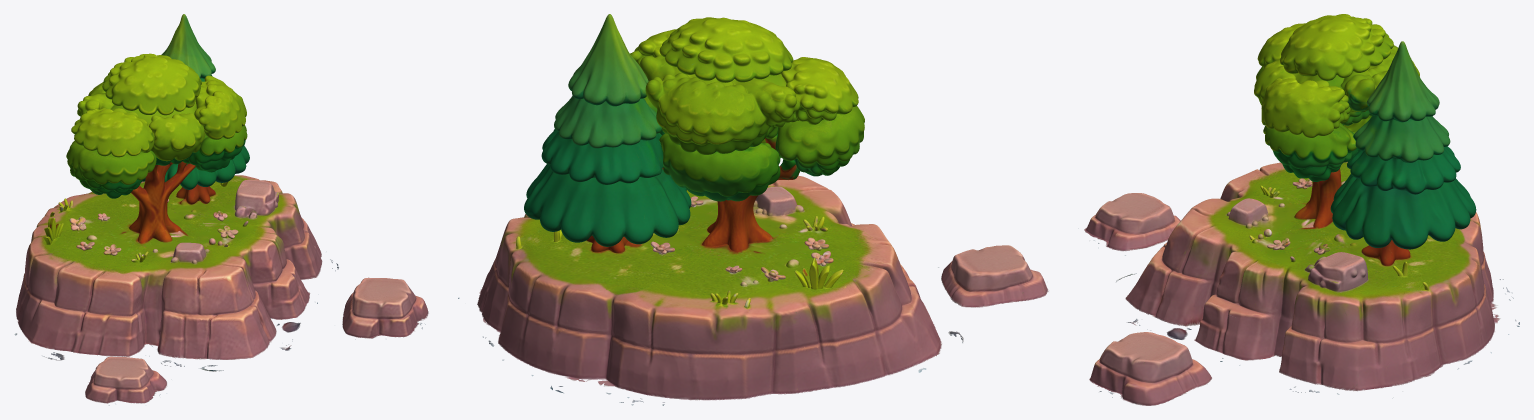
The model's file is wooded-granite-islet-01.glb.
3 views of the same model, side by side, from view 1: azimuth 30°, elevation 25°; view 2: azimuth 150°, elevation 25°; view 3: azimuth 270°, elevation 25° (orthographic). The views are drawn at different scales.
Size of the model in its own units: 1.65 by 1.13 by 1.55.
1 material, 1 textured.
